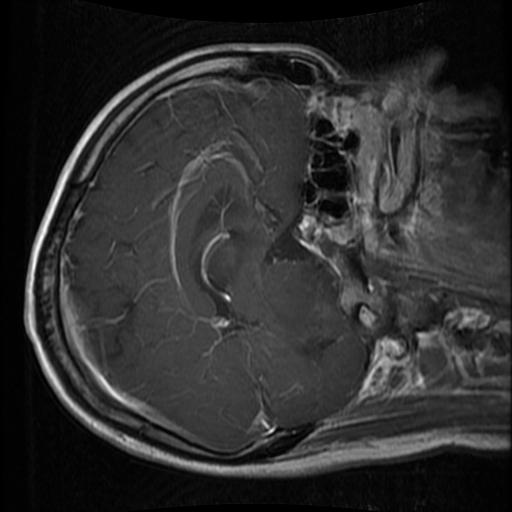glioma: (266, 263, 331, 335)
